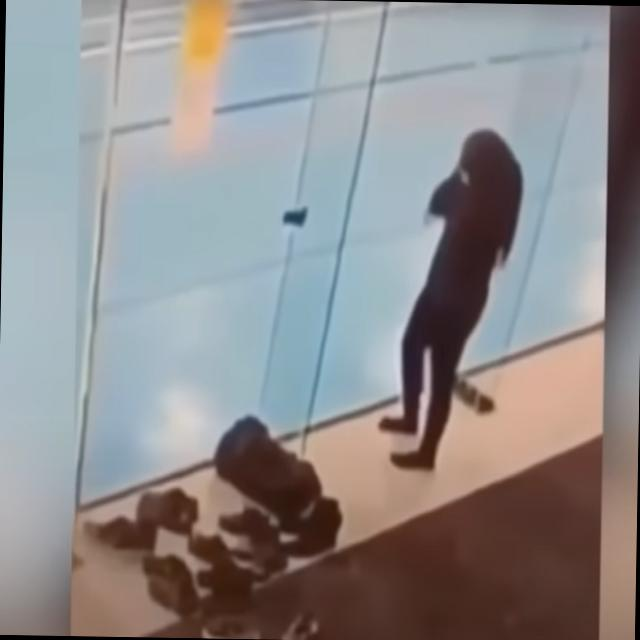person: (376, 124, 525, 474)
